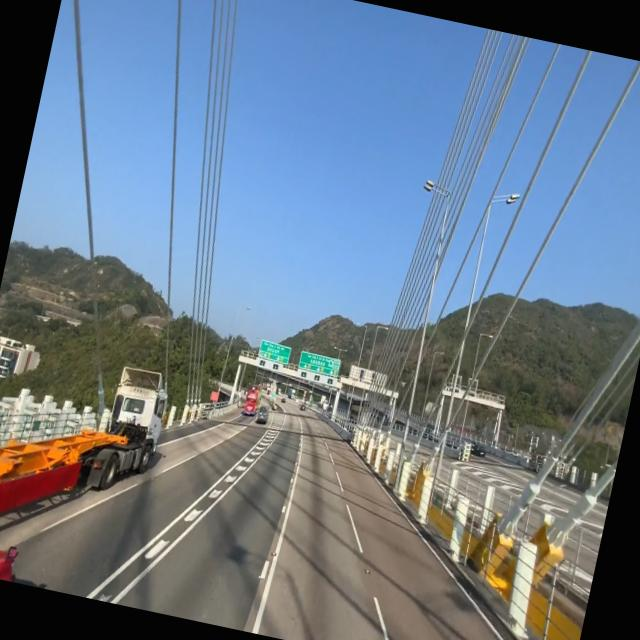Vehicle: (0, 327, 177, 576)
